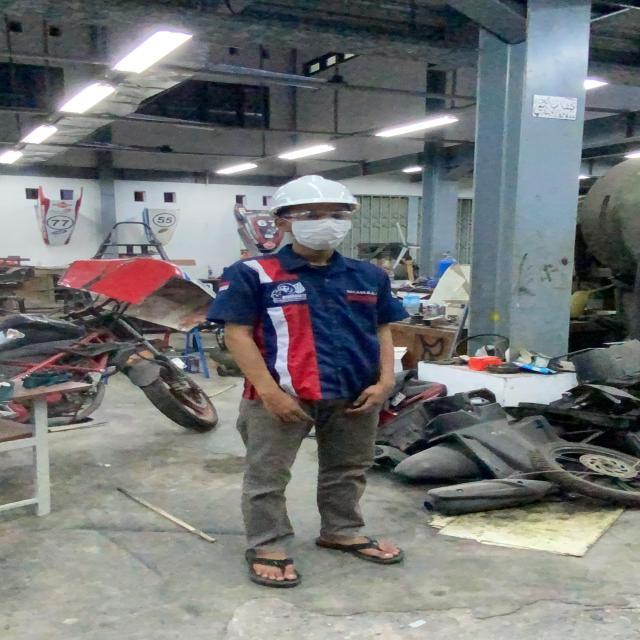glasses: (279, 210, 357, 224)
